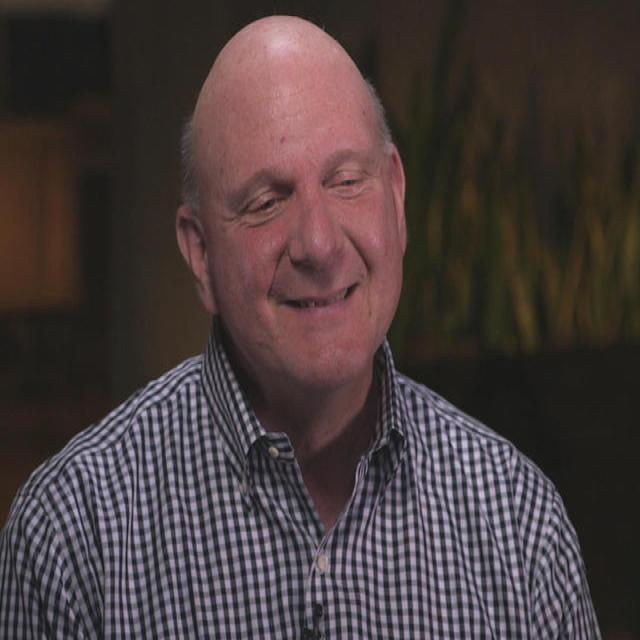human: (0, 16, 603, 640)
